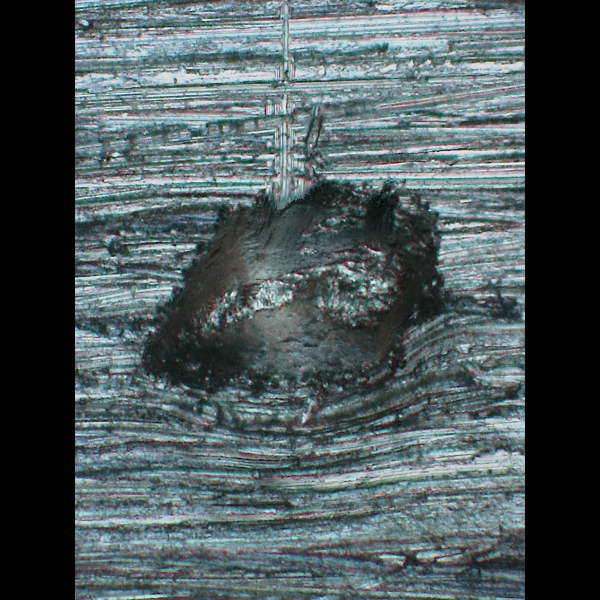d: (129, 123, 464, 449)
